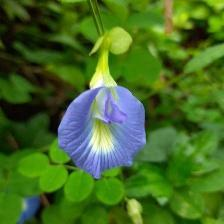shankupushpam: (56, 31, 150, 182)
